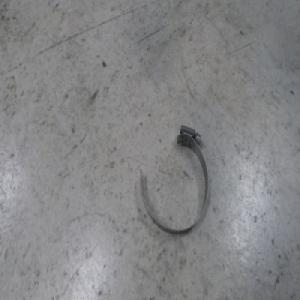AdjustableClamp: (140, 124, 209, 235)
